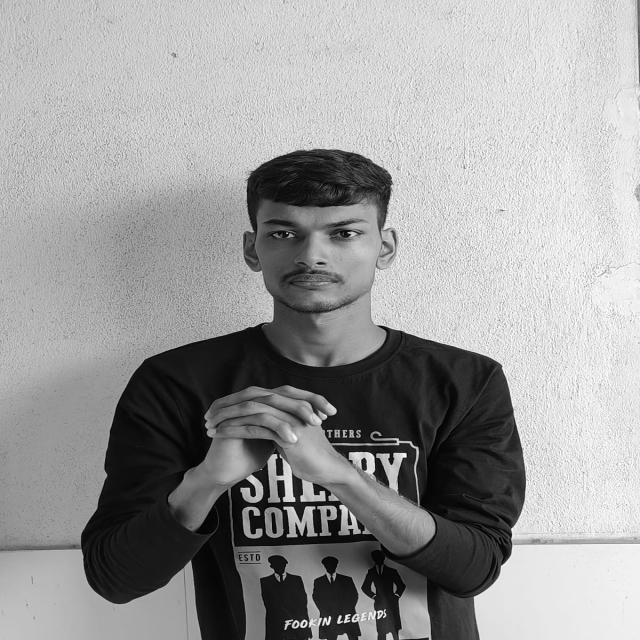Sorry: (201, 384, 341, 466)
